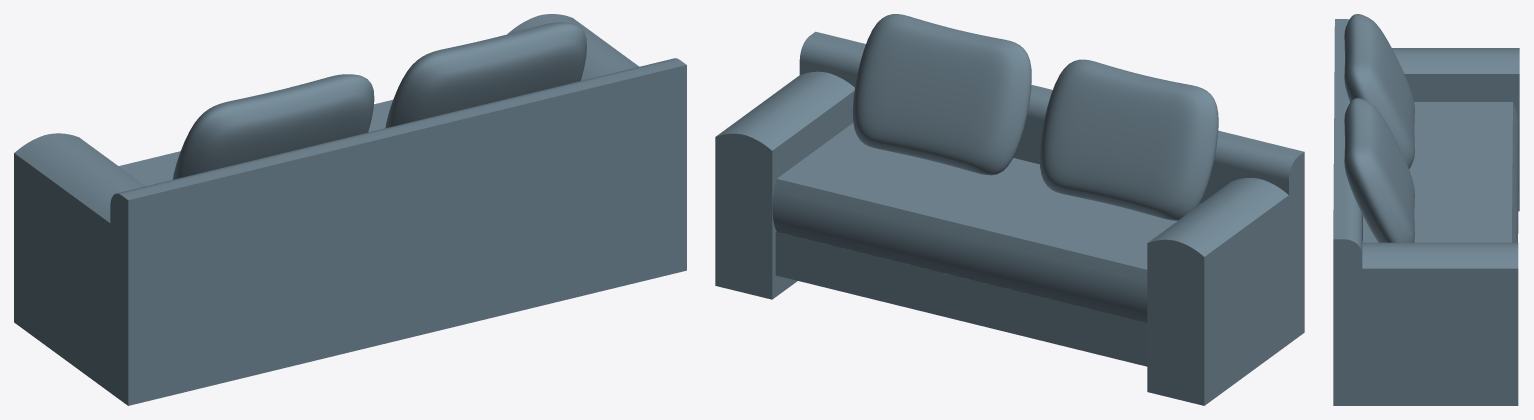
File: Canape1_8.fbx
3 views of the same model, side by side, from view 1: azimuth 30°, elevation 25°; view 2: azimuth 150°, elevation 25°; view 3: azimuth 270°, elevation 25° (orthographic). The views are drawn at different scales.
Visible parts, largest first — view 1: pCube1068, pCube2517, pCube2516, pCube2518; view 2: pCube1068, pCube2518, pCube2517, pCube2516, pCube2515; view 3: pCube1068, pCube2518, pCube2517, pCube2516.
Boxes of the visible parts, x1,y1,x2,y2 form: pCube1068: (14,14,686,405); pCube2517: (385,22,586,128); pCube2516: (172,74,374,179); pCube2518: (119,100,392,186); pCube1068: (715,31,1304,405); pCube2518: (772,123,1200,322); pCube2517: (852,14,1031,175); pCube2516: (1039,59,1218,220); pCube2515: (775,231,1147,366); pCube1068: (1333,19,1519,405); pCube2518: (1362,102,1518,242); pCube2517: (1344,98,1414,242); pCube2516: (1344,14,1414,168).
Bounding box in the file's own units: 166 × 74.66 × 59.34.
